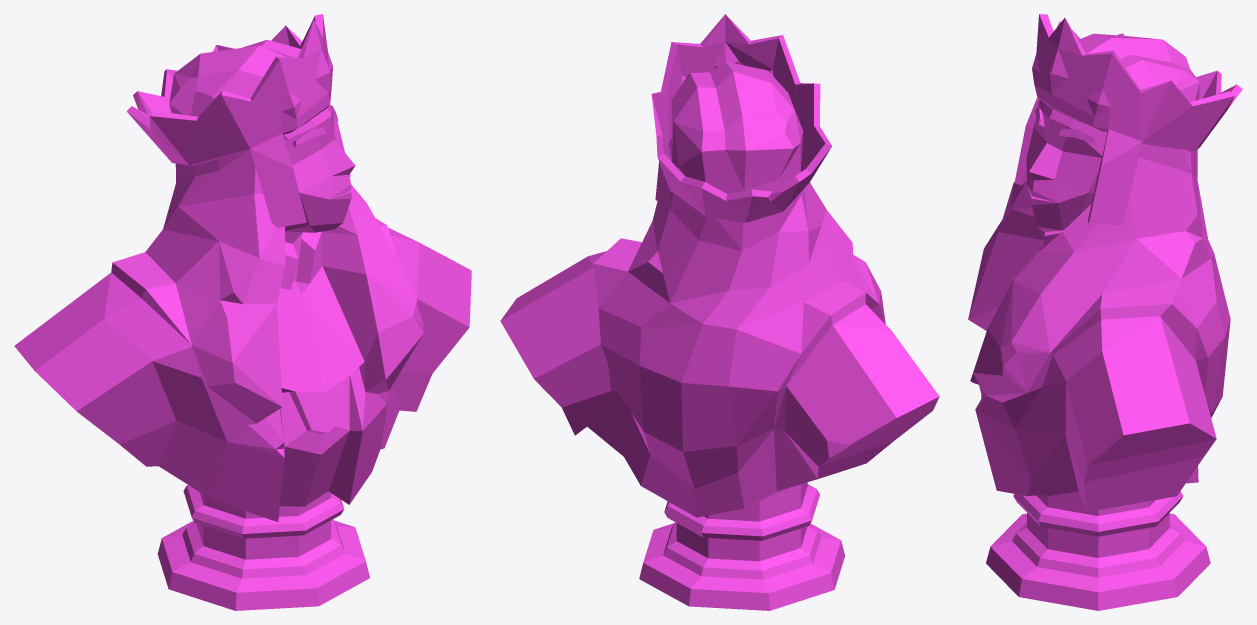
Rendered from SM_Statue_Bust_Queen_Fantasy.fbx.
The picture shows the model from 3 angles, left to right: view 1: azimuth 30°, elevation 25°; view 2: azimuth 150°, elevation 25°; view 3: azimuth 270°, elevation 25°; orthographic projection. The views are drawn at different scales.
Parts seen in each view (by area): view 1: SM_Statue_Bust_Queen_Fantasy; view 2: SM_Statue_Bust_Queen_Fantasy; view 3: SM_Statue_Bust_Queen_Fantasy.
Part boxes in pixels (bbox=[...]): SM_Statue_Bust_Queen_Fantasy: bbox=[14, 14, 471, 610]; SM_Statue_Bust_Queen_Fantasy: bbox=[500, 14, 939, 610]; SM_Statue_Bust_Queen_Fantasy: bbox=[968, 14, 1242, 610].
Bounding box in the file's own units: 0.5214 × 0.6282 × 0.278.
